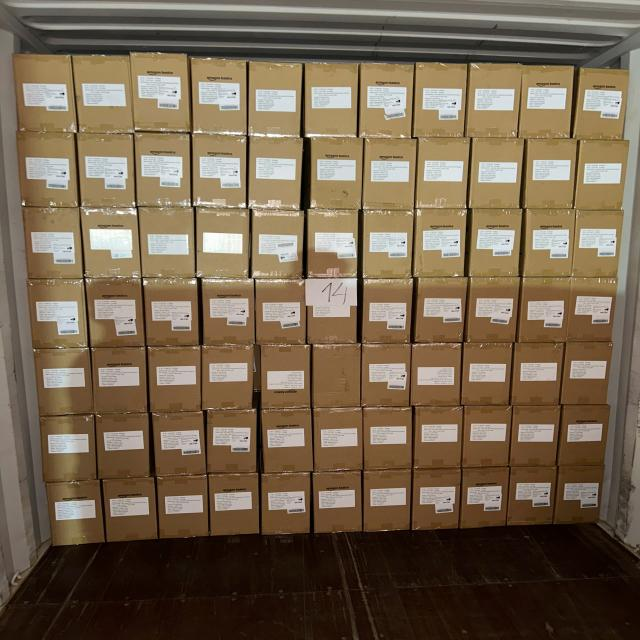Carton: (12, 56, 74, 136), (132, 54, 192, 134), (18, 132, 79, 209), (74, 57, 132, 136), (192, 58, 248, 139), (24, 208, 85, 282), (76, 133, 134, 210), (135, 133, 192, 209), (29, 279, 90, 350), (250, 62, 304, 141), (302, 60, 358, 136), (85, 210, 144, 282), (34, 345, 94, 415), (138, 208, 195, 281), (250, 137, 306, 211), (85, 281, 144, 351), (193, 134, 248, 208), (359, 64, 412, 140), (45, 478, 104, 546), (414, 64, 466, 141), (523, 66, 576, 141), (468, 65, 519, 142), (575, 141, 628, 214), (42, 413, 98, 482), (362, 136, 414, 210), (196, 210, 249, 282), (417, 136, 470, 208), (471, 136, 524, 208), (90, 346, 146, 414), (312, 137, 364, 210), (147, 282, 202, 350), (94, 412, 149, 480), (575, 66, 626, 139), (413, 210, 466, 280), (252, 211, 305, 281), (310, 210, 362, 281), (361, 211, 413, 281), (470, 210, 522, 280), (147, 346, 200, 414), (528, 136, 578, 208), (524, 210, 575, 280), (104, 477, 158, 543), (202, 343, 256, 408), (153, 413, 206, 479), (203, 281, 255, 348), (414, 279, 466, 346), (308, 281, 360, 347), (256, 277, 308, 343), (468, 280, 520, 346), (572, 210, 621, 280), (206, 409, 258, 473), (261, 407, 312, 472), (522, 280, 572, 346), (560, 404, 612, 467), (156, 475, 207, 539), (260, 342, 310, 407), (361, 281, 411, 346), (313, 342, 363, 406), (412, 341, 462, 405), (209, 474, 260, 536), (511, 342, 561, 405), (462, 341, 512, 404), (361, 405, 410, 469), (315, 406, 364, 470), (561, 340, 610, 404), (362, 344, 410, 409), (510, 404, 558, 468), (568, 280, 616, 344), (314, 471, 363, 533), (261, 472, 310, 534), (413, 405, 461, 468), (464, 405, 512, 467), (556, 466, 605, 526), (361, 470, 409, 531), (412, 468, 459, 530), (463, 468, 509, 530), (512, 467, 558, 528)
